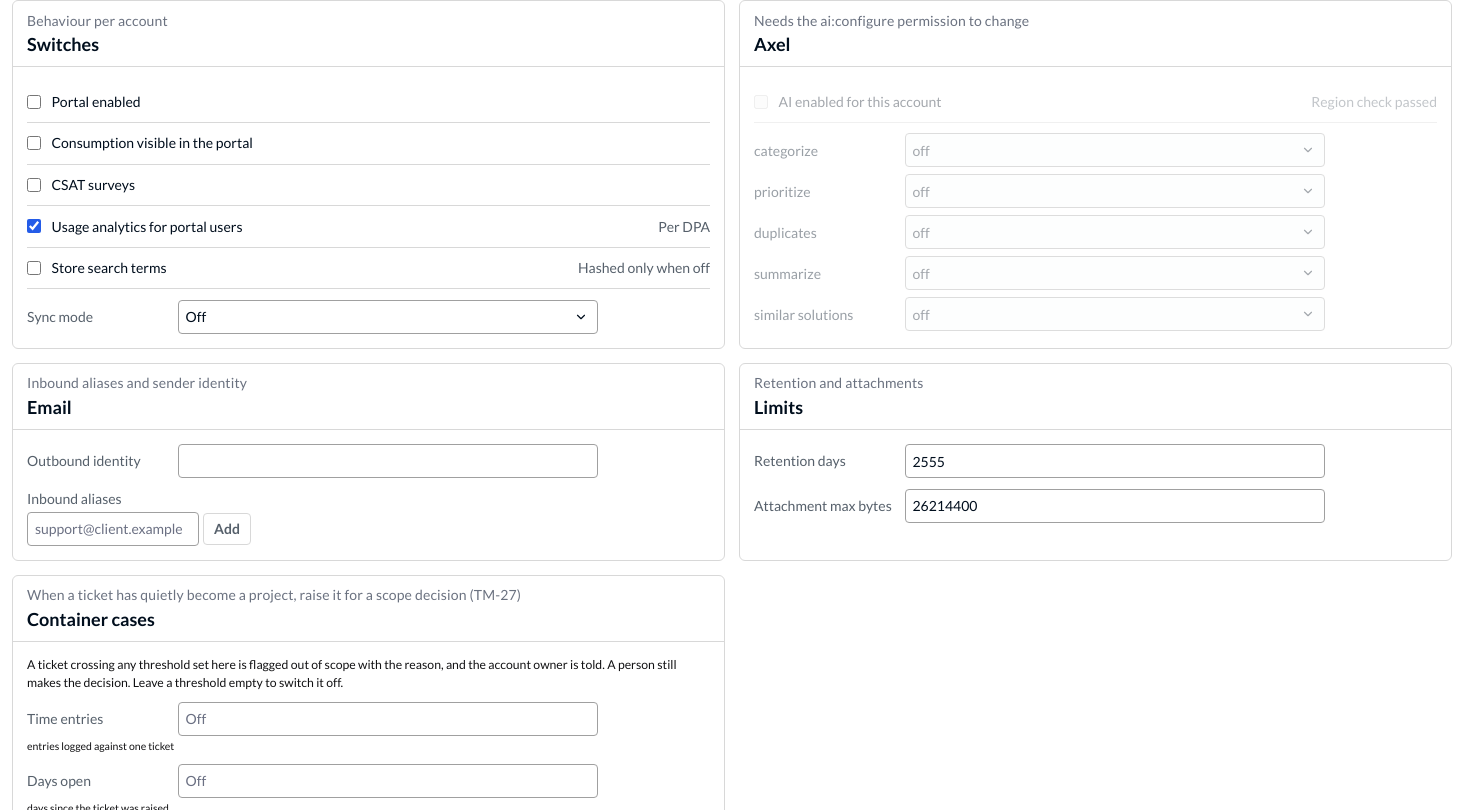
Scenario: AccountSettingsTab › sends one PUT with the version and, on 409 stale_version, toasts and reloads the row
Click the switch labelled "Portal enabled".
click(34, 102)  # box top-left (27, 95), bottom-right (41, 109)
(page scrolled)
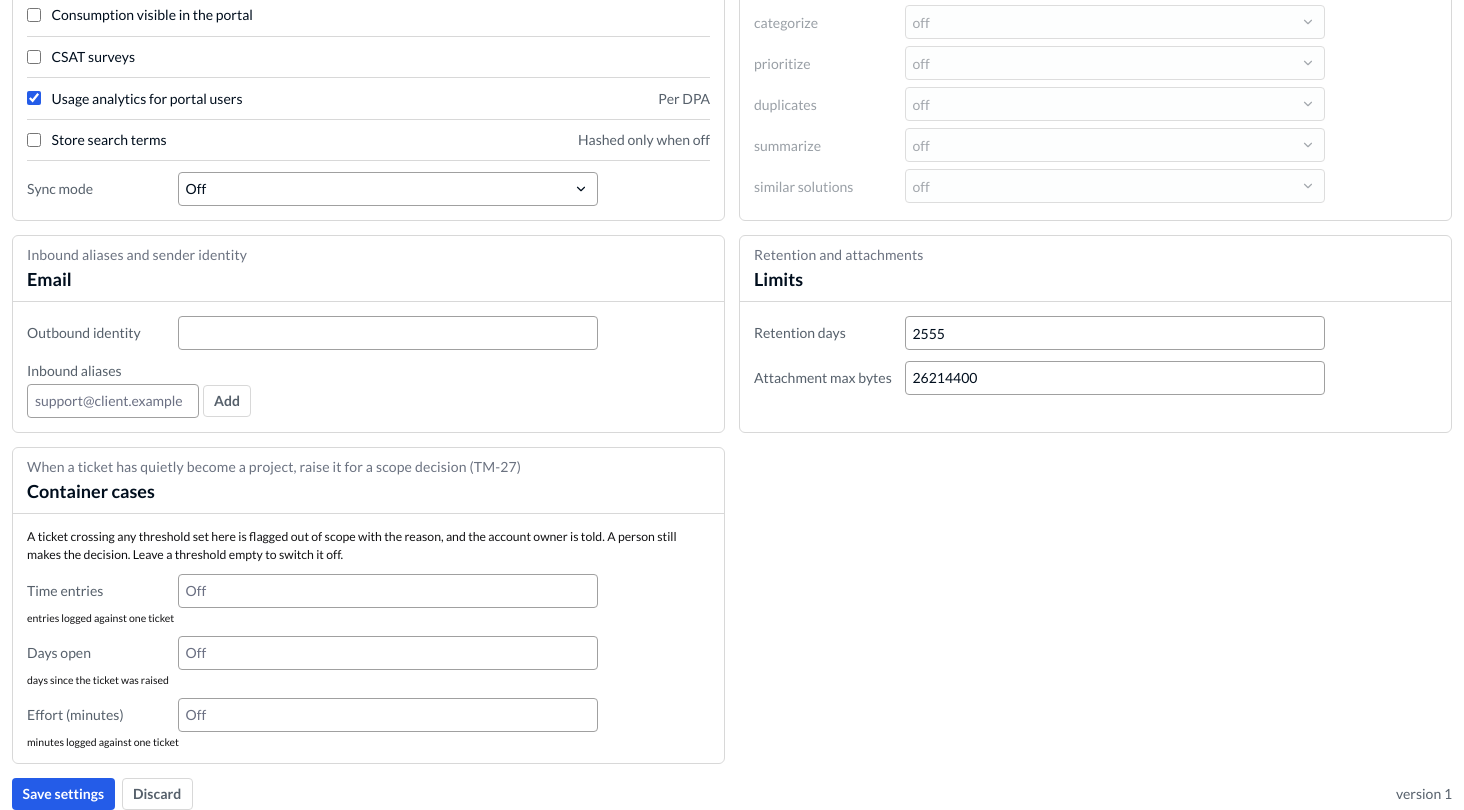
Click the button "Save settings".
click(63, 794)  # box top-left (12, 778), bottom-right (115, 809)
(page scrolled)
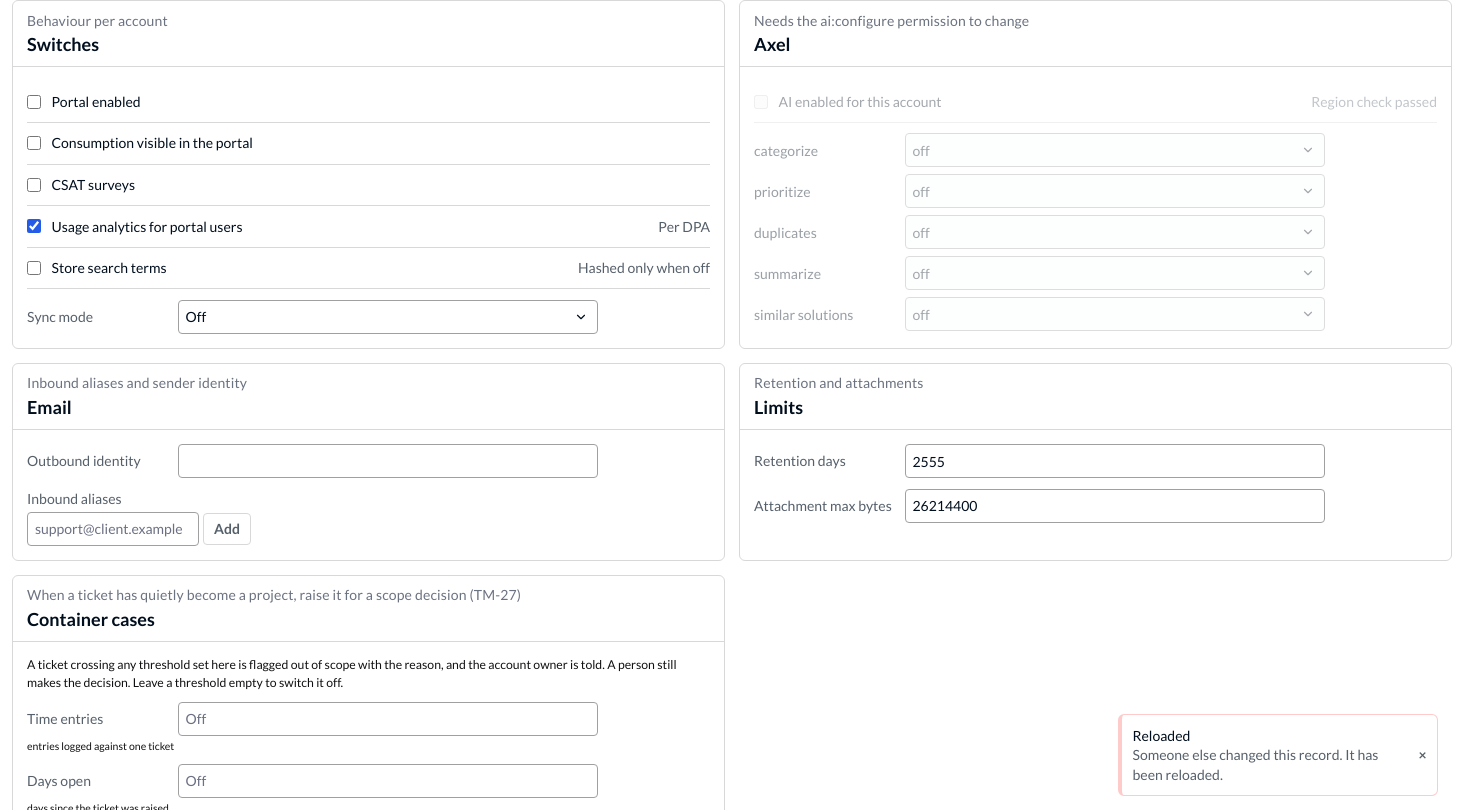
Check: the switch labelled "Portal enabled" is not checked, box top-left (27, 95), bottom-right (41, 109)
Check: the text "Someone else changed this record. It has been reloaded." is shown, box top-left (1132, 745), bottom-right (1408, 784)
